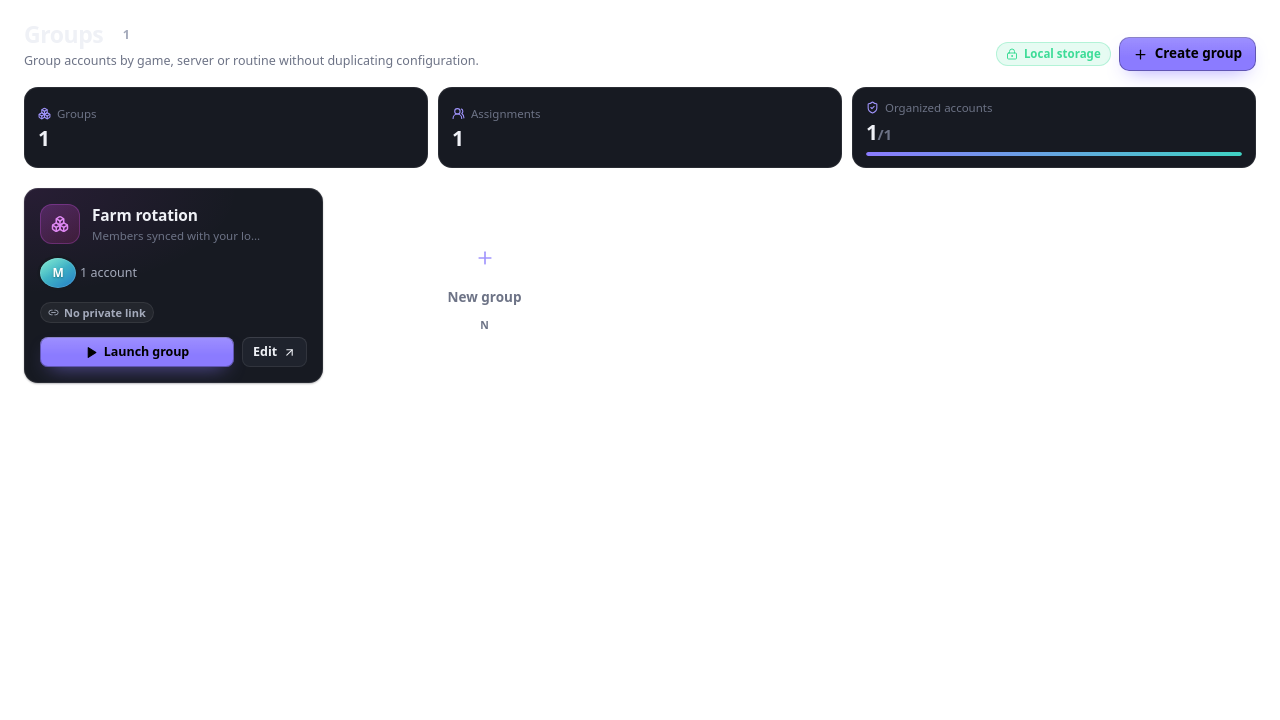
Test: PackagesPage group workspace › renders a modern group card and opens the existing edit flow
Check: the heading "Farm rotation" is shown, box 92,204 -> 198,226
Check: the text "1 account" is shown, box 80,264 -> 137,283
Click the button "Edit" at coordinates (275, 352), box 242,337 -> 307,367
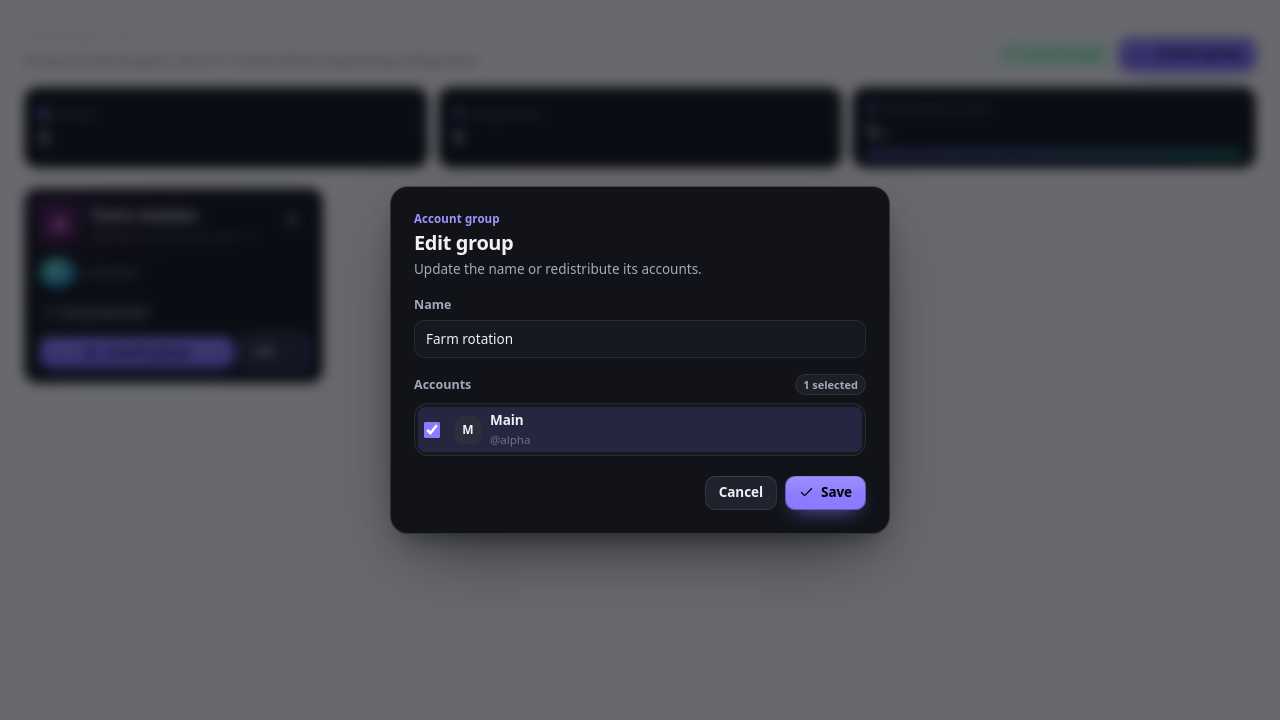
Check: the heading "Edit group" is shown, box 414,230 -> 513,256
